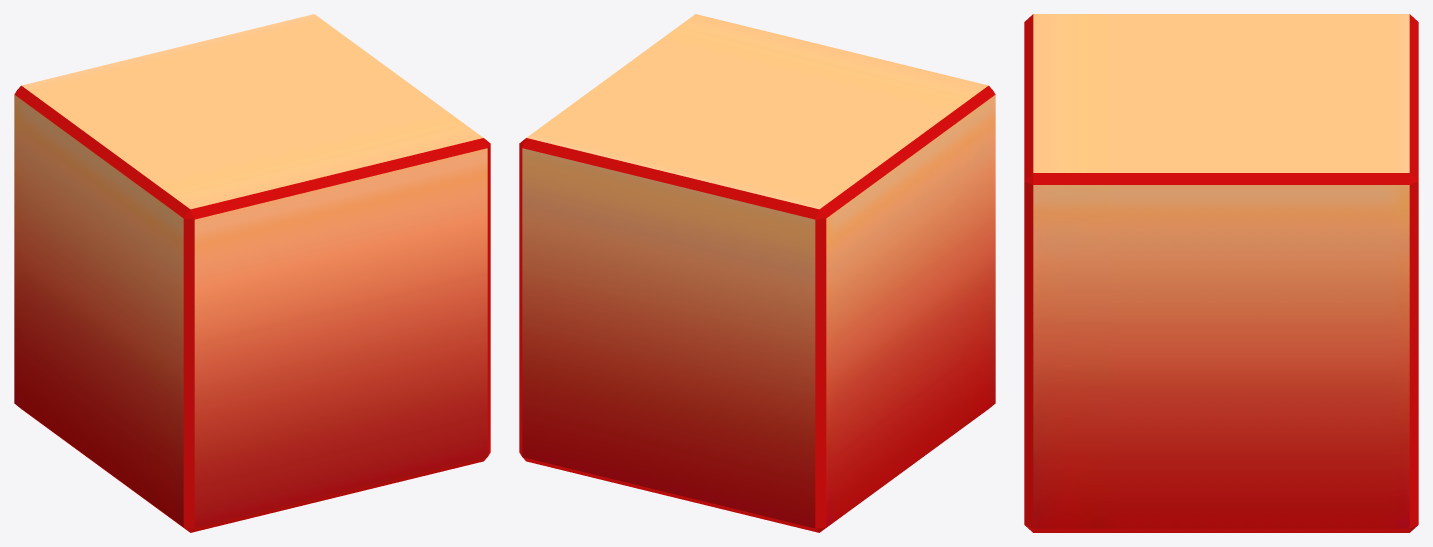
The picture shows the model from 3 angles, left to right: view 1: azimuth 30°, elevation 25°; view 2: azimuth 150°, elevation 25°; view 3: azimuth 270°, elevation 25°; orthographic projection. The views are drawn at different scales.
Parts seen in each view (by area): view 1: CyberPunkCubeShapeB.002; view 2: CyberPunkCubeShapeB.002; view 3: CyberPunkCubeShapeB.002.
Boxes of the visible parts, x1,y1,x2,y2 form: CyberPunkCubeShapeB.002: (14, 14, 490, 532); CyberPunkCubeShapeB.002: (519, 14, 995, 532); CyberPunkCubeShapeB.002: (1024, 14, 1418, 532).
Size of what is drawn, in the model's own units: 0.7415 by 0.7467 by 0.7415.
Materials: 2 (2 with a texture image).
